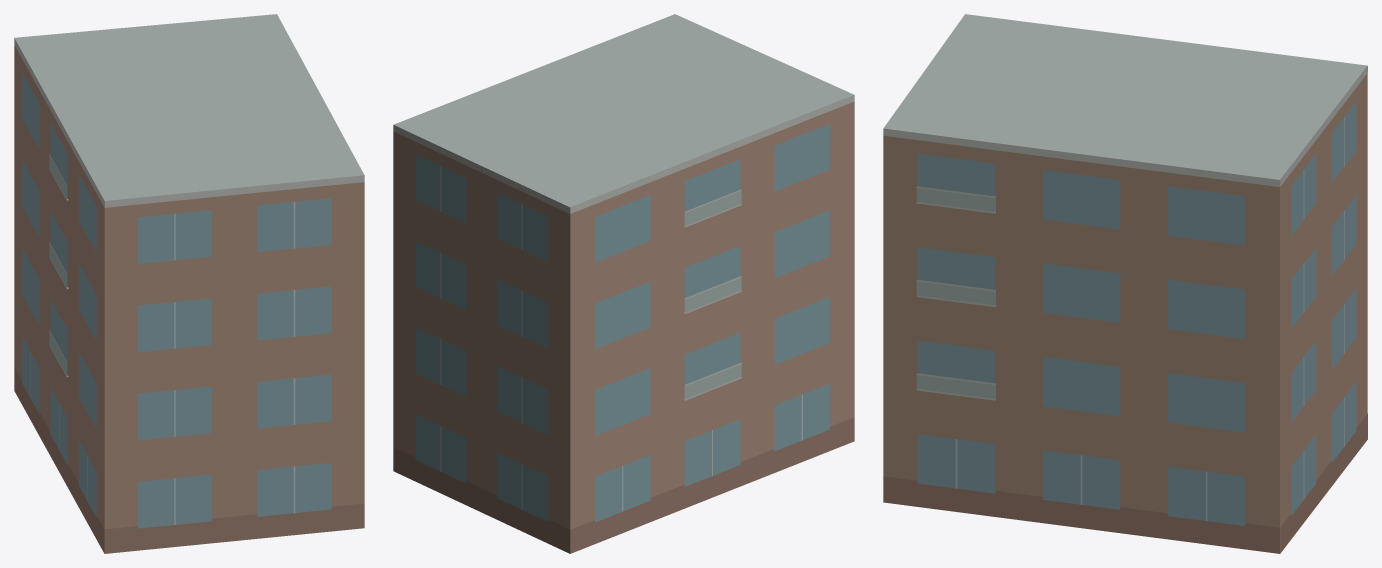
The model's file is survey-upis-32966453.glb.
3 views of the same model, side by side, from view 1: azimuth 30°, elevation 25°; view 2: azimuth 150°, elevation 25°; view 3: azimuth 270°, elevation 25° (orthographic). The views are drawn at different scales.
Visible parts, largest first — view 1: survey-upis-32966453.tmp; view 2: survey-upis-32966453.tmp; view 3: survey-upis-32966453.tmp.
Part boxes in pixels (box(x1,y1,x2,y2)): survey-upis-32966453.tmp: box(14, 14, 364, 553); survey-upis-32966453.tmp: box(393, 14, 854, 553); survey-upis-32966453.tmp: box(883, 14, 1367, 553).
Bounding box in the file's own units: 12.2 × 12.8 × 15.04.
